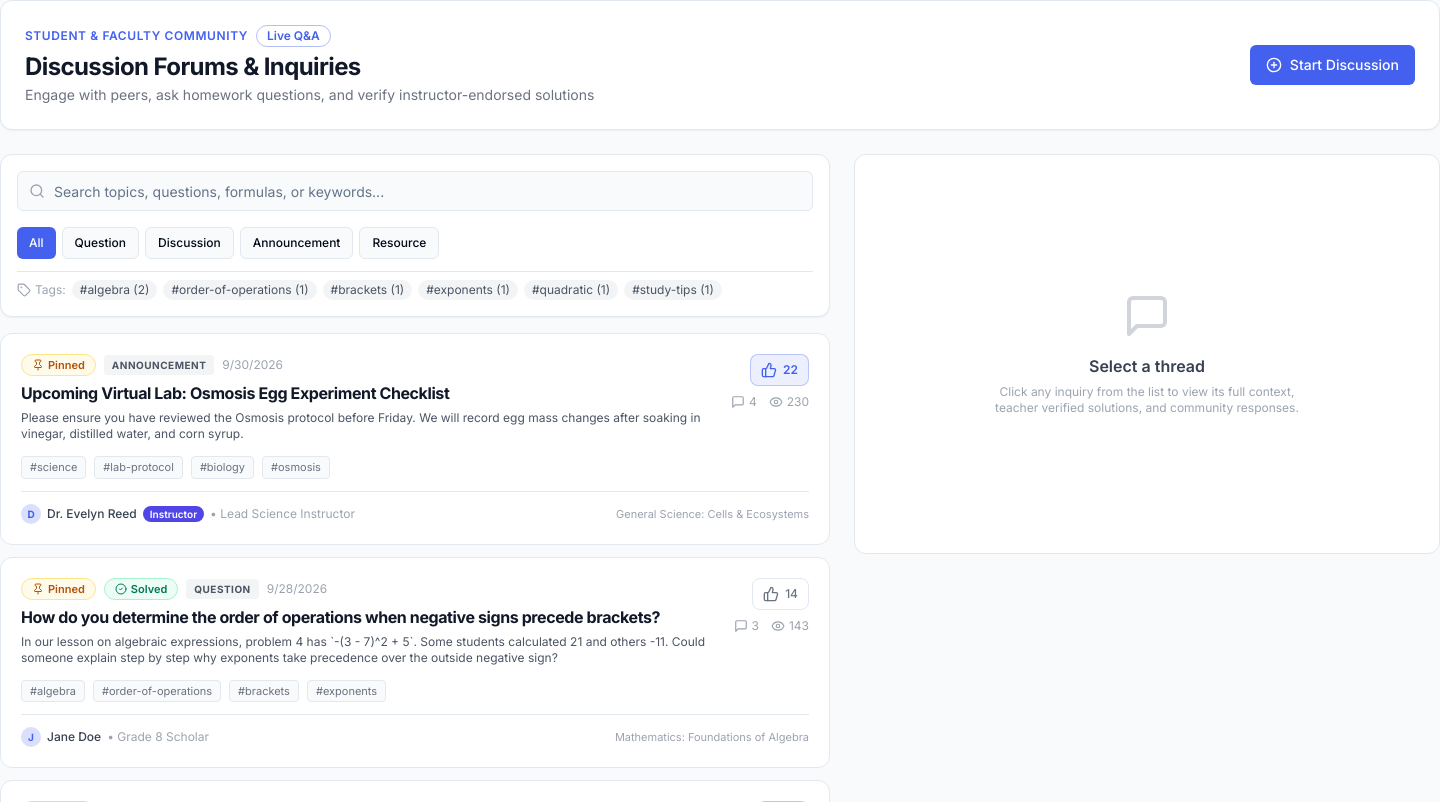
DiscussionForumView Component › allows opening the start discussion modal
Click the button "Start Discussion" at point(1332, 65), box [1250, 45, 1415, 85]
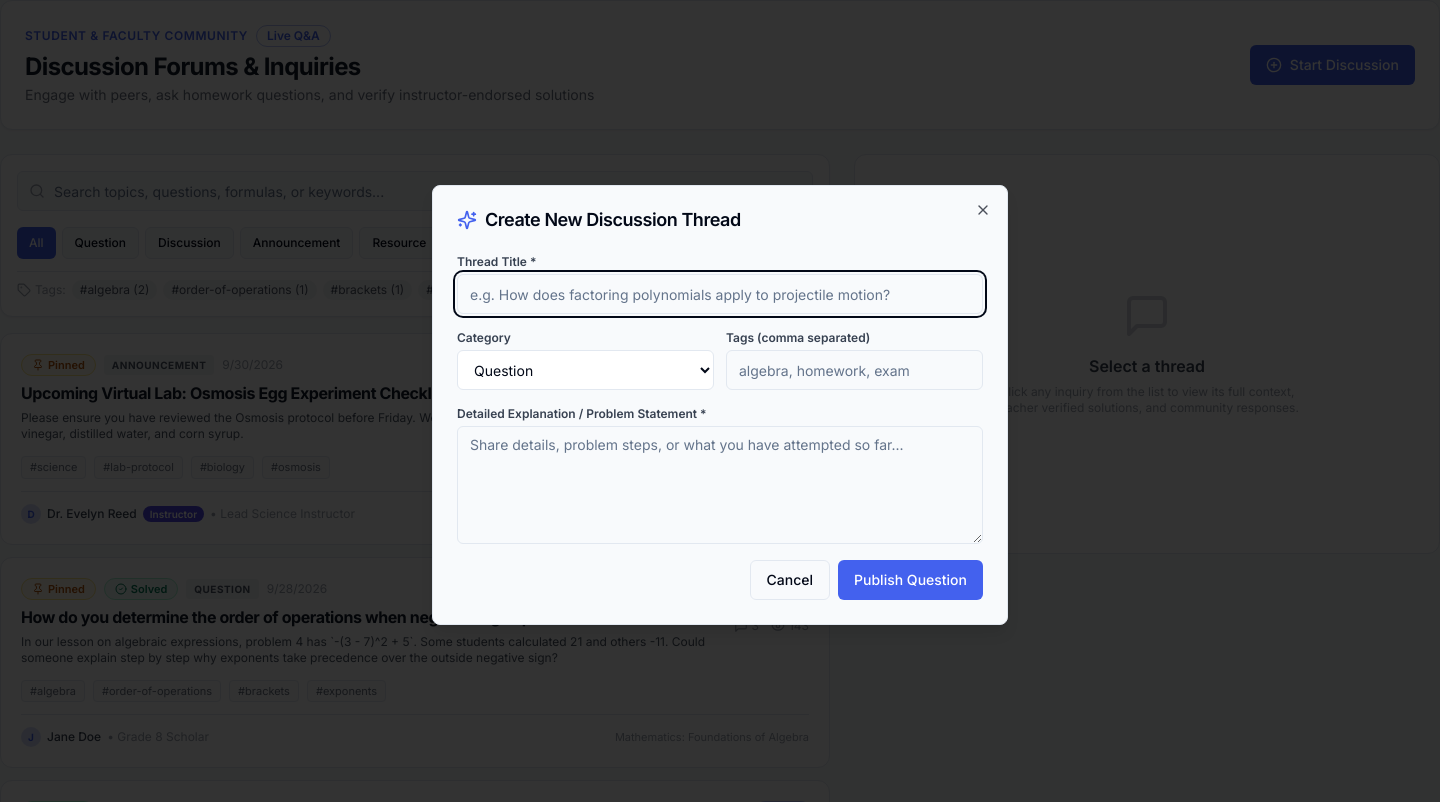
Result: the heading "Create New Discussion Thread" is shown at [457, 209, 741, 230]
Result: the field with placeholder "e.g. How does factoring polynomials" is shown at [457, 274, 983, 314]
